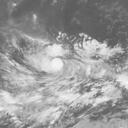cyclone: (33, 42, 72, 76)
